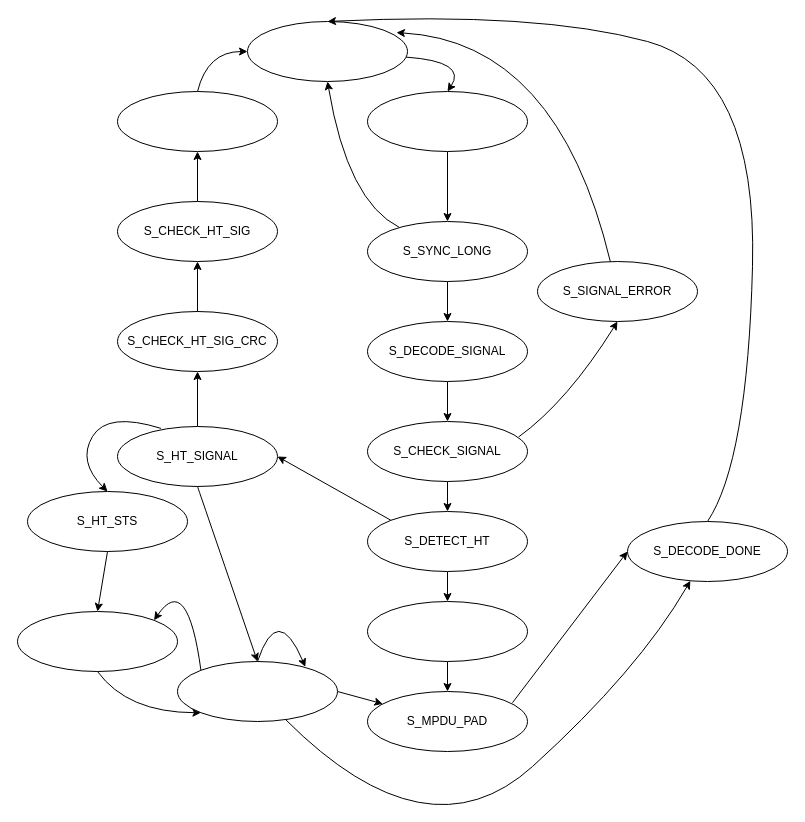
Image size: 805x822. Some labels were removed from this diagram. Each missing label, with the centre of its shape:
S_DECODE_DATA: the point at 447,631
S_HT_LTS: the point at 97,641
S_HT_SIG_ERROR: the point at 197,121
S_MPDU_DELIM: the point at 257,691
S_SYNC_SHORT: the point at 447,121
S_WAIT_POWER_TRIGGER: the point at 327,51
